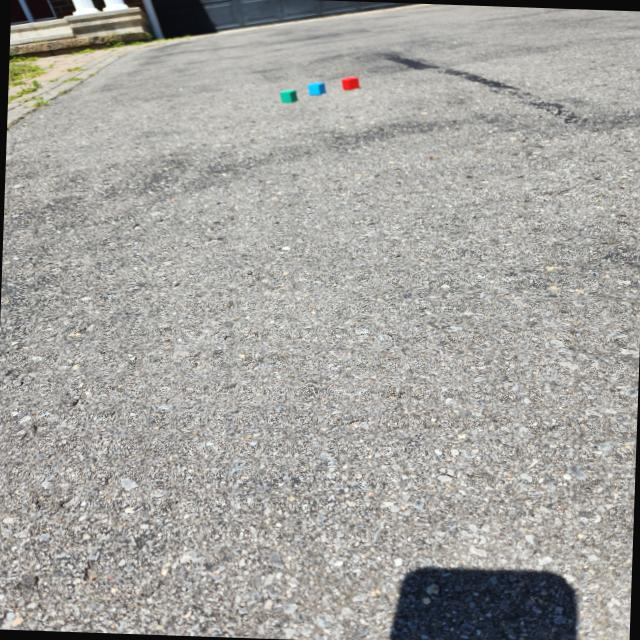bluecube: (306, 80, 326, 96)
green cube: (280, 88, 298, 104)
red cube: (340, 74, 360, 90)
